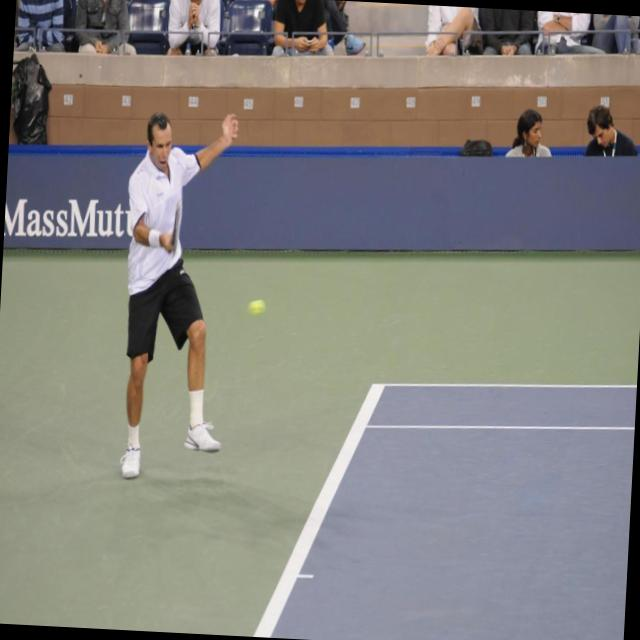Tennis Ball: (248, 295, 264, 315)
